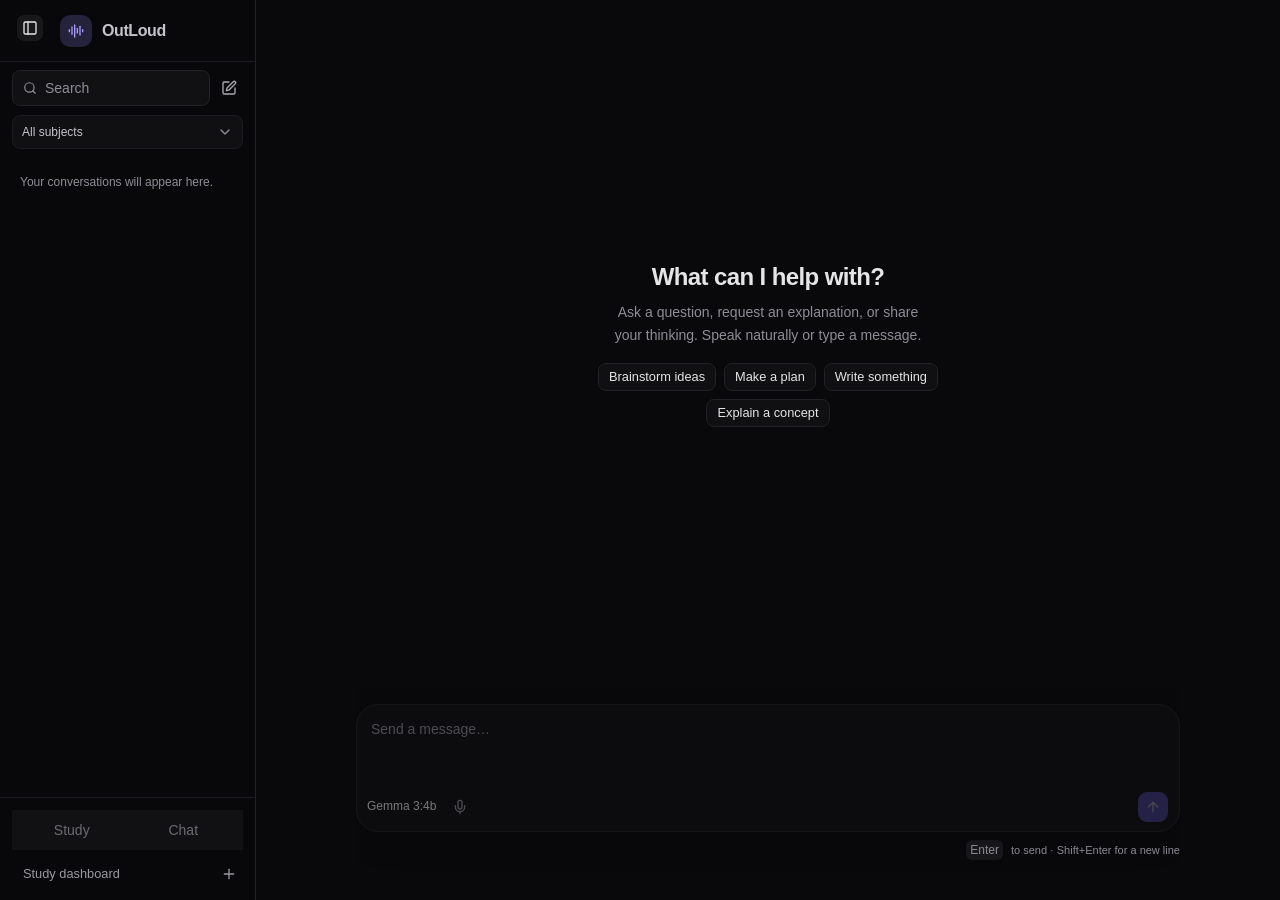
Scenario: keeps the conversation name in the sidebar without a workspace breadcrumb
Check: the text "Your conversations will appear here." is shown, box [20,175,213,189]
Click the button named "New chat": (229, 88) [215,74,243,102]
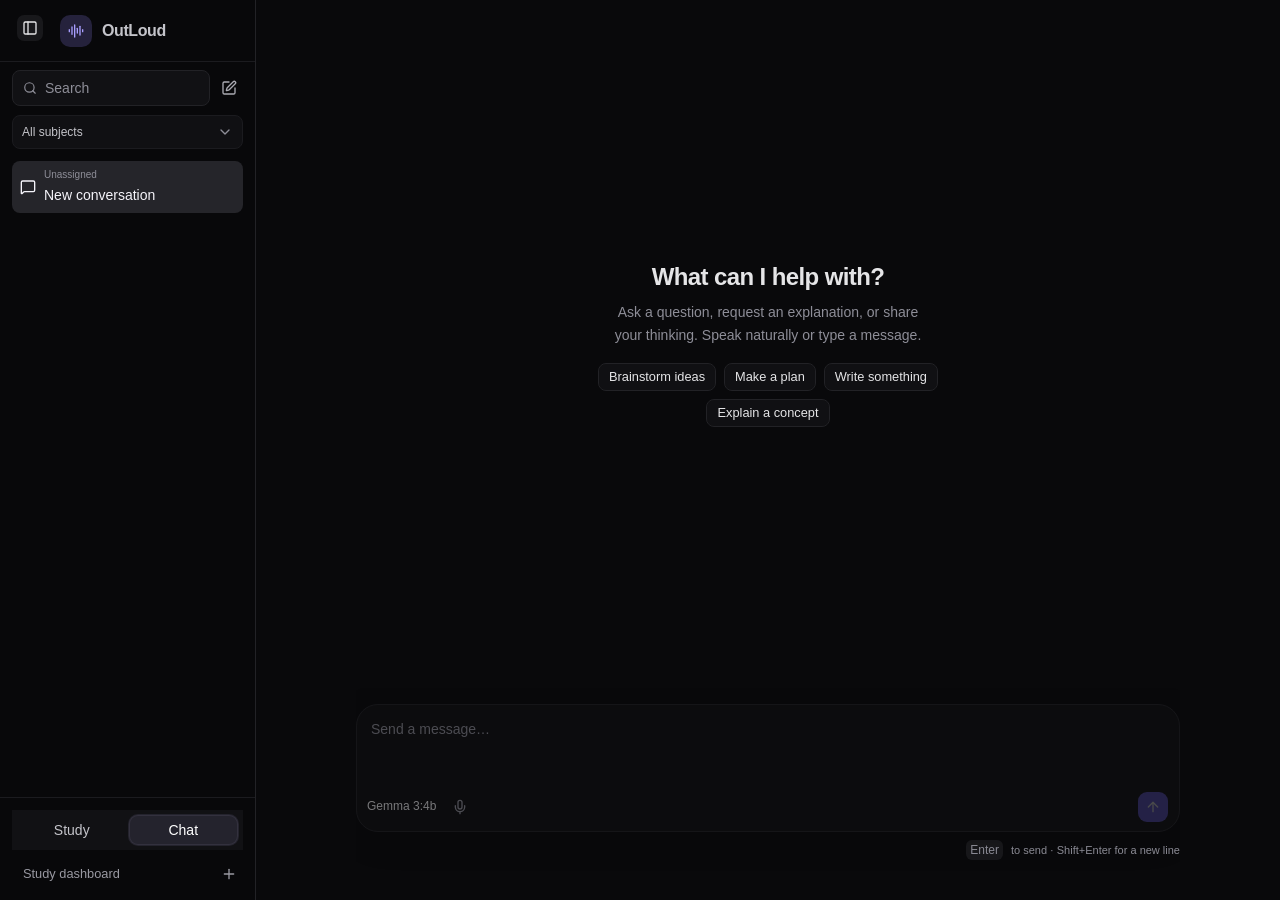
Check: the button with aria-label "Select New conversation" is shown
Right-click the button with aria-label "Select New conversation": (128, 187) [12,161,243,213]
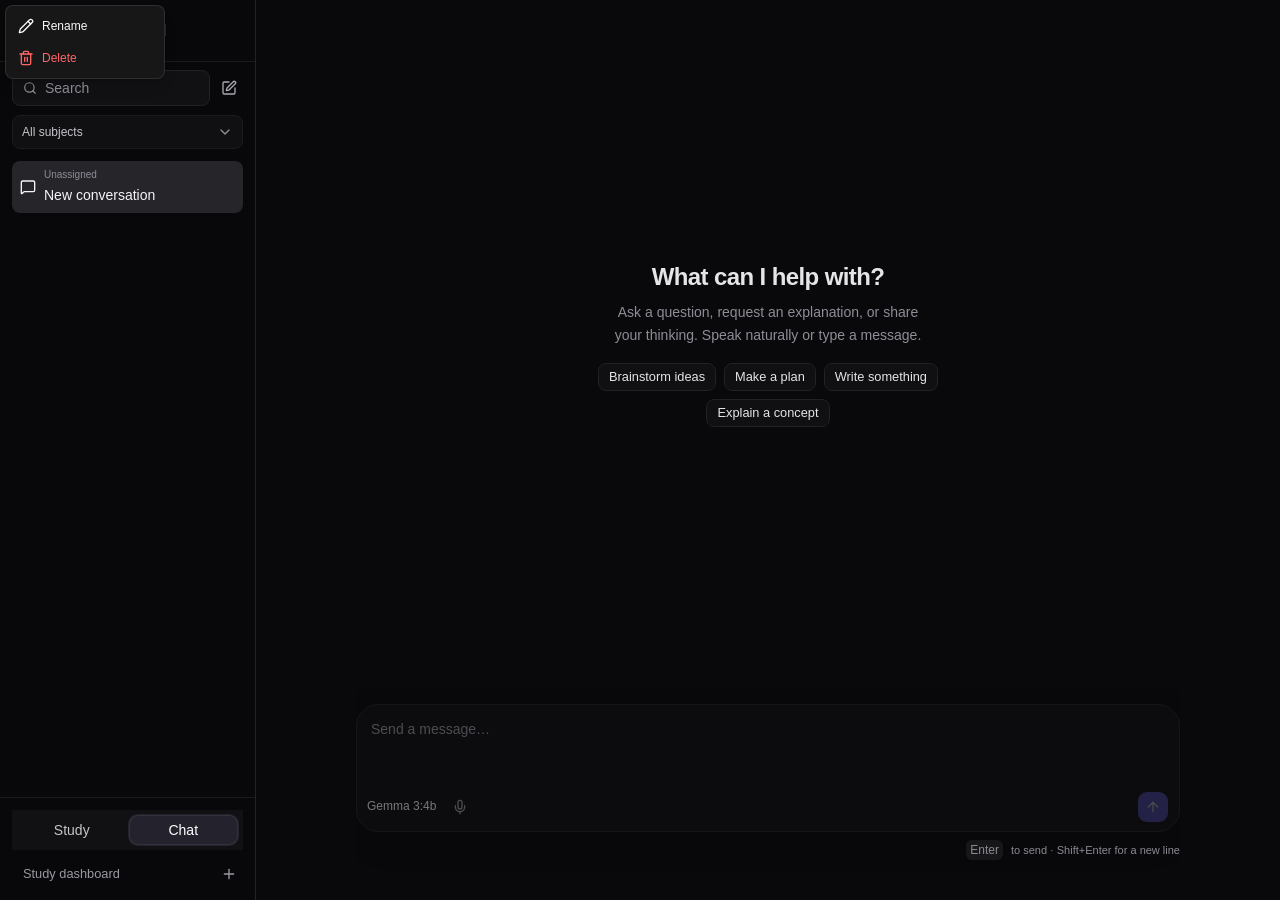
Check: the menu item "Rename" is enabled, box [18,18,87,34]
Check: the menu item "Delete" is enabled, box [18,50,77,66]
